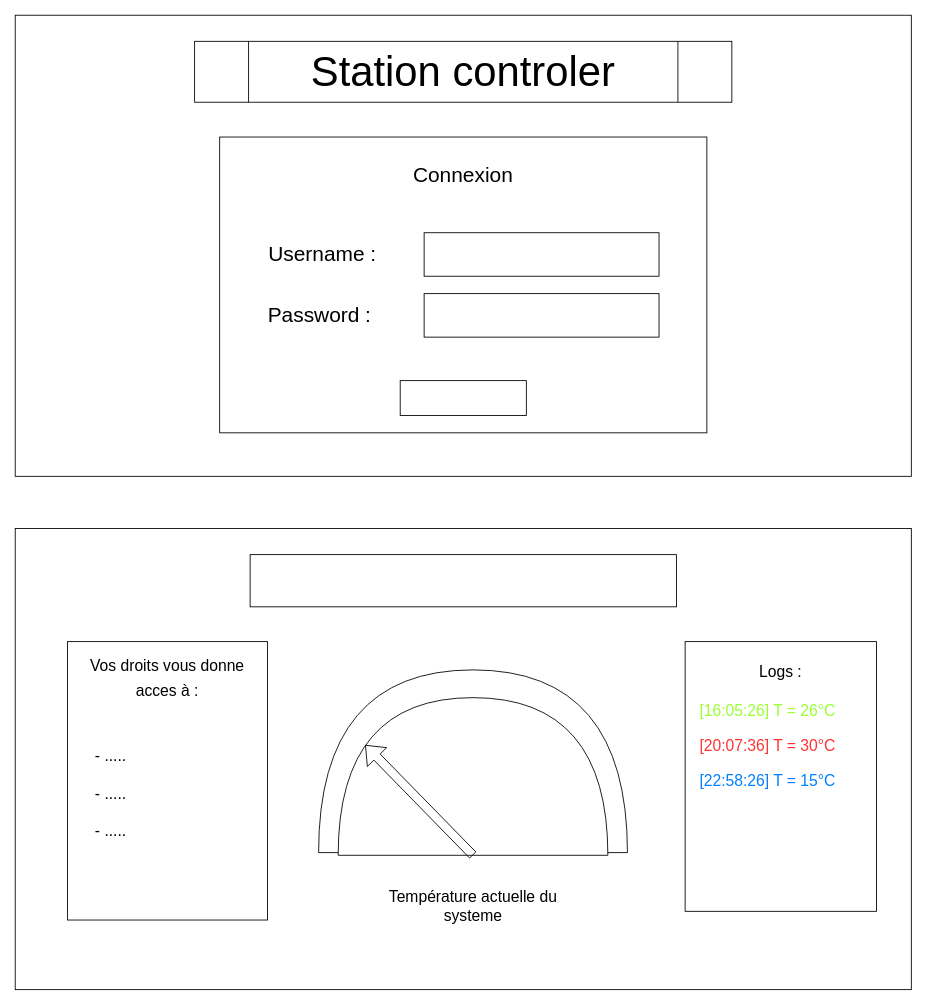
Image size: 927x1005. Some labels were removed from this diagram. The shapes that lost their labels are listed below. From the top down, each one's box as (x1, y1, x2, y2) in pixels, then its label:
(399, 380, 526, 415): Log in
(249, 554, 676, 607): Bienvenue Username
